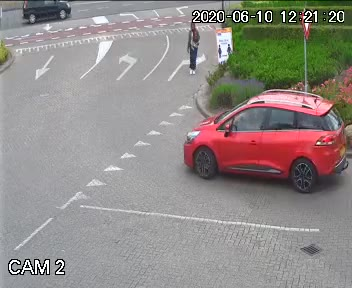car: (183, 86, 352, 203), (17, 0, 76, 25)
